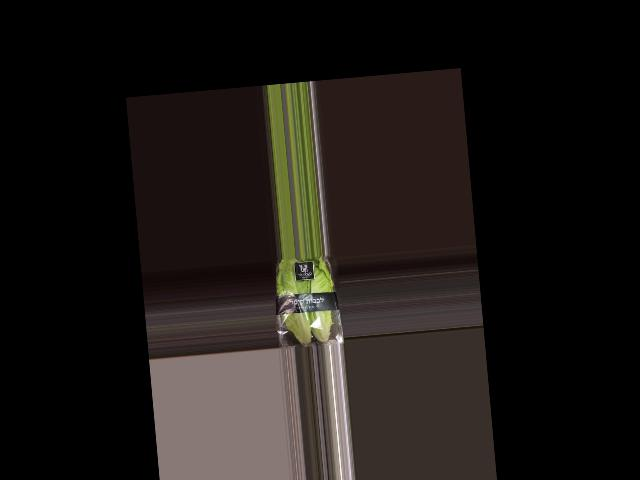lettuce: (275, 255, 343, 349)
